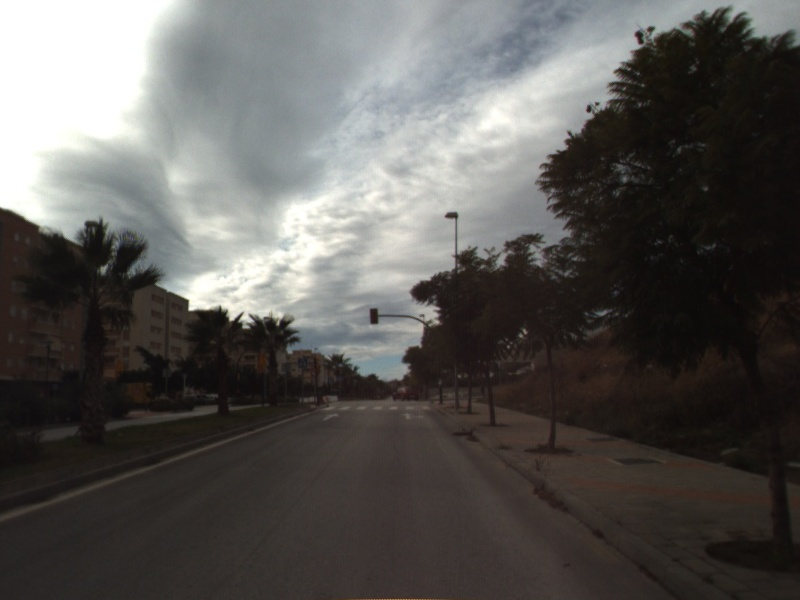STRAIGHT: (321, 411, 341, 423)
STRAIGHT_RIGHT: (399, 411, 426, 421)
